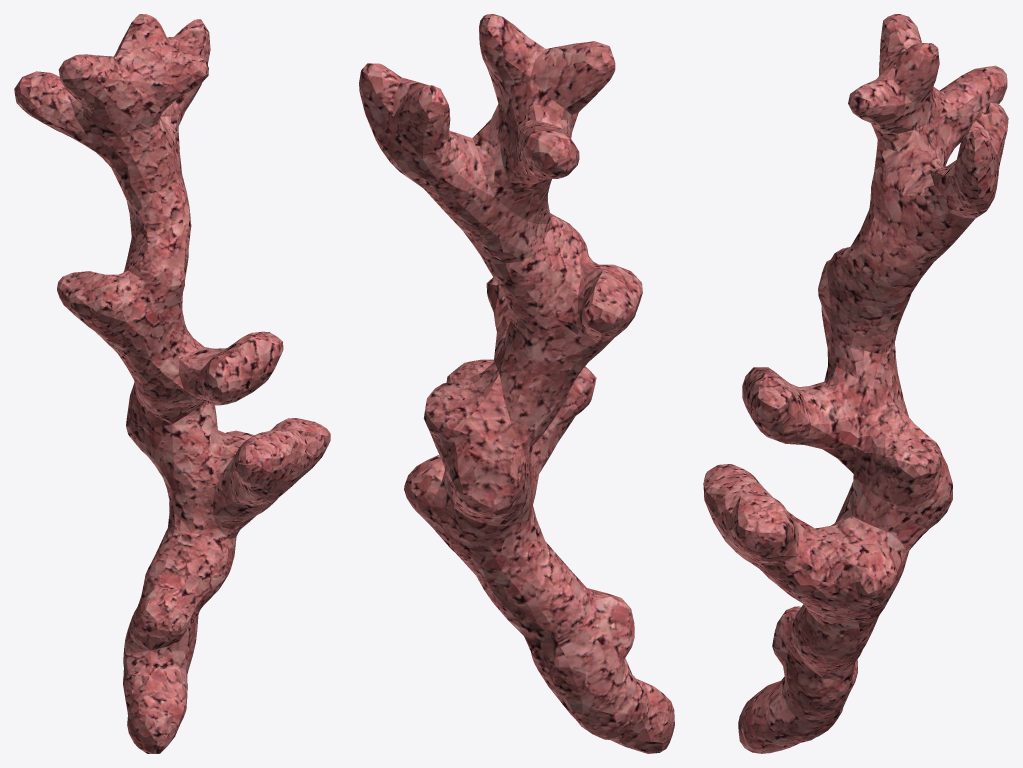
The model's file is coral tree 2 red.glb.
3 views of the same model, side by side, from view 1: azimuth 30°, elevation 25°; view 2: azimuth 150°, elevation 25°; view 3: azimuth 270°, elevation 25° (orthographic). The views are drawn at different scales.
Parts seen in each view (by area): view 1: coral_4_whole_watertight_small; view 2: coral_4_whole_watertight_small; view 3: coral_4_whole_watertight_small.
Part boxes in pixels (bbox=[...]): coral_4_whole_watertight_small: bbox=[14, 14, 330, 753]; coral_4_whole_watertight_small: bbox=[359, 14, 674, 753]; coral_4_whole_watertight_small: bbox=[703, 14, 1008, 753].
Size of the model in its own units: 70.01 by 215 by 79.78.
1 material, 1 textured.
